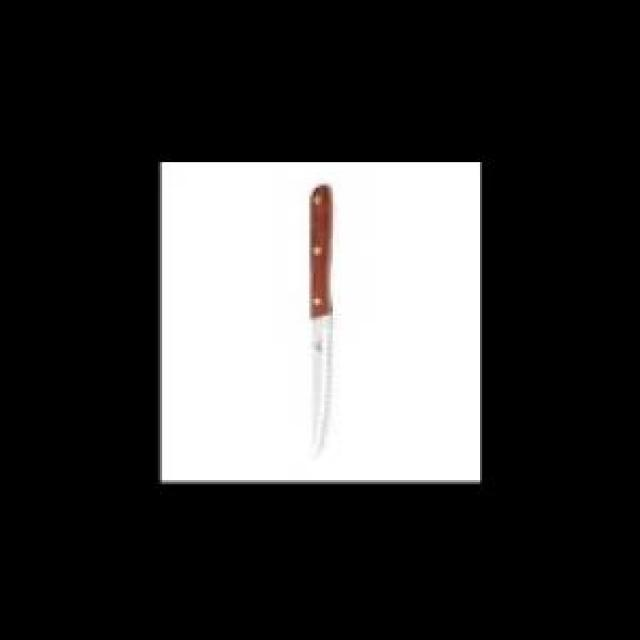knife: (307, 177, 336, 456)
